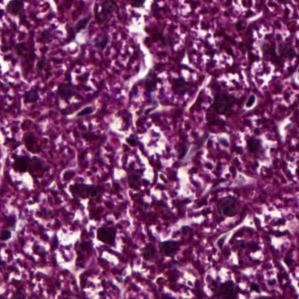inflammation: (5, 150, 53, 191), (238, 128, 282, 171), (201, 265, 246, 299), (91, 222, 122, 257)
